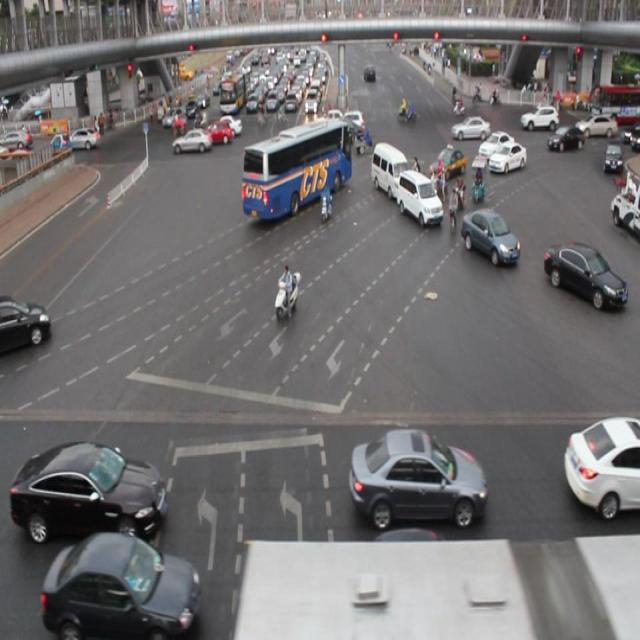car: (42, 531, 202, 640), (10, 446, 168, 540), (345, 422, 488, 524), (321, 522, 456, 624), (562, 409, 640, 514), (545, 235, 625, 316), (460, 202, 519, 266), (1, 286, 51, 350), (425, 144, 464, 175), (546, 124, 584, 151), (172, 127, 209, 154), (490, 143, 524, 172), (449, 118, 489, 142), (200, 118, 232, 143), (332, 118, 364, 142), (479, 130, 512, 153)
truck: (395, 168, 442, 228), (370, 142, 404, 198)
van: (232, 530, 640, 640), (242, 119, 350, 215)
